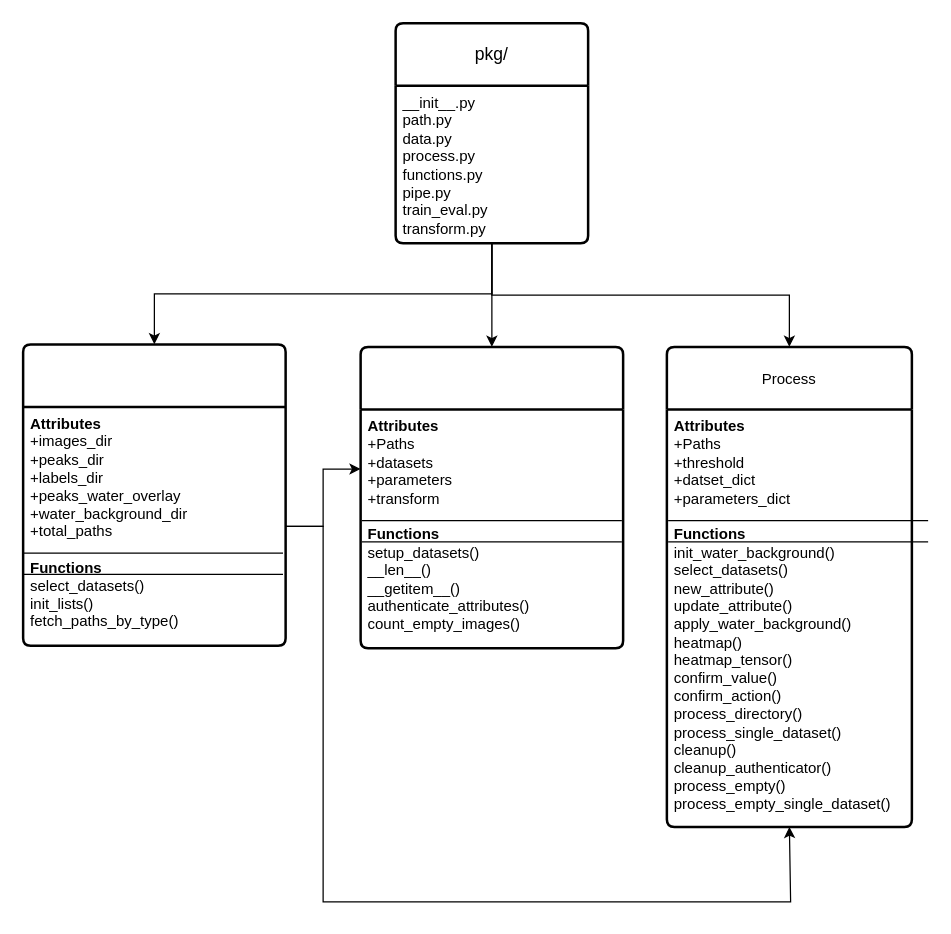
The diagram is 951 pixels wide and 934 high, and some of its shapes have lost their labels. The box of each missing label's shape, as (x1, y1, x2, y2) in pixels:
DatasetManager: (359, 345, 624, 649)
PathManager: (21, 342, 286, 646)
